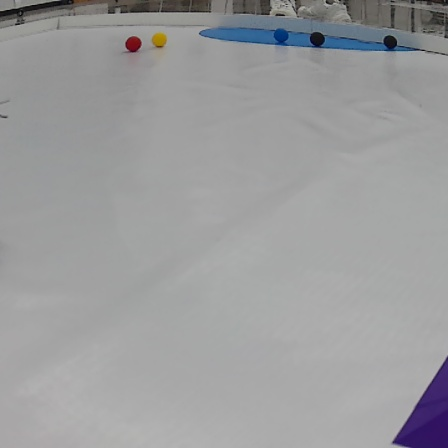black: (310, 31, 327, 46), (381, 35, 396, 48)
blue: (274, 27, 293, 41)
blue_base: (200, 23, 420, 60)
red: (125, 35, 144, 53)
yellow: (149, 31, 165, 45)
